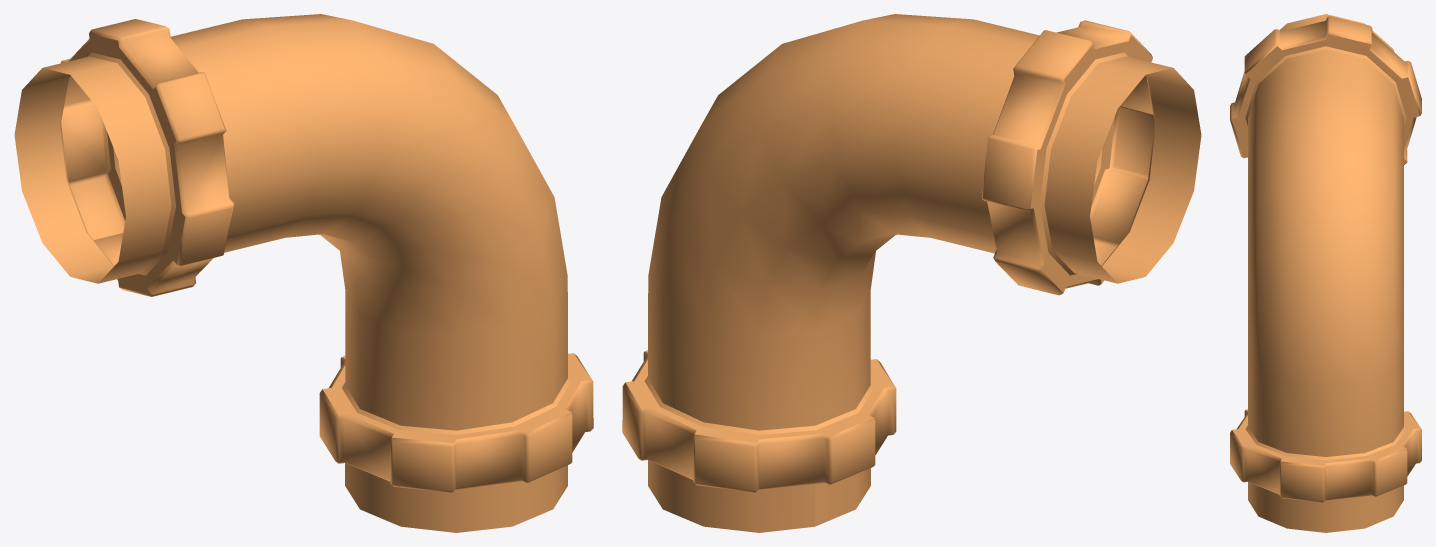
The model's file is SPipe_curve_beveled.fbx.
3 renders of one model, left to right at view 1: azimuth 30°, elevation 25°; view 2: azimuth 150°, elevation 25°; view 3: azimuth 270°, elevation 25°, orthographic. The views are drawn at different scales.
Visible parts, largest first — view 1: SPipe_curve; view 2: SPipe_curve; view 3: SPipe_curve.
Boxes of the visible parts, left/top/right/bottom form: SPipe_curve: left=14, top=14, right=593, bottom=532; SPipe_curve: left=622, top=14, right=1201, bottom=532; SPipe_curve: left=1230, top=14, right=1421, bottom=532.
Bounding box in the file's own units: 261 × 261 × 123.
